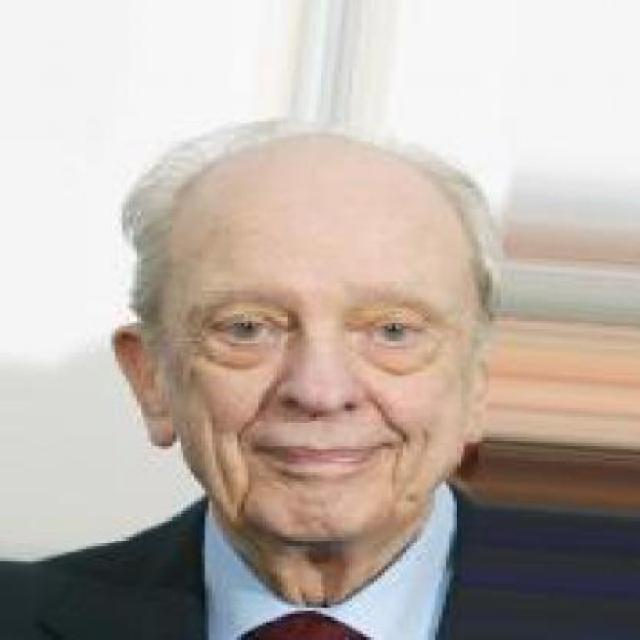closed-mouth: (248, 432, 408, 482)
